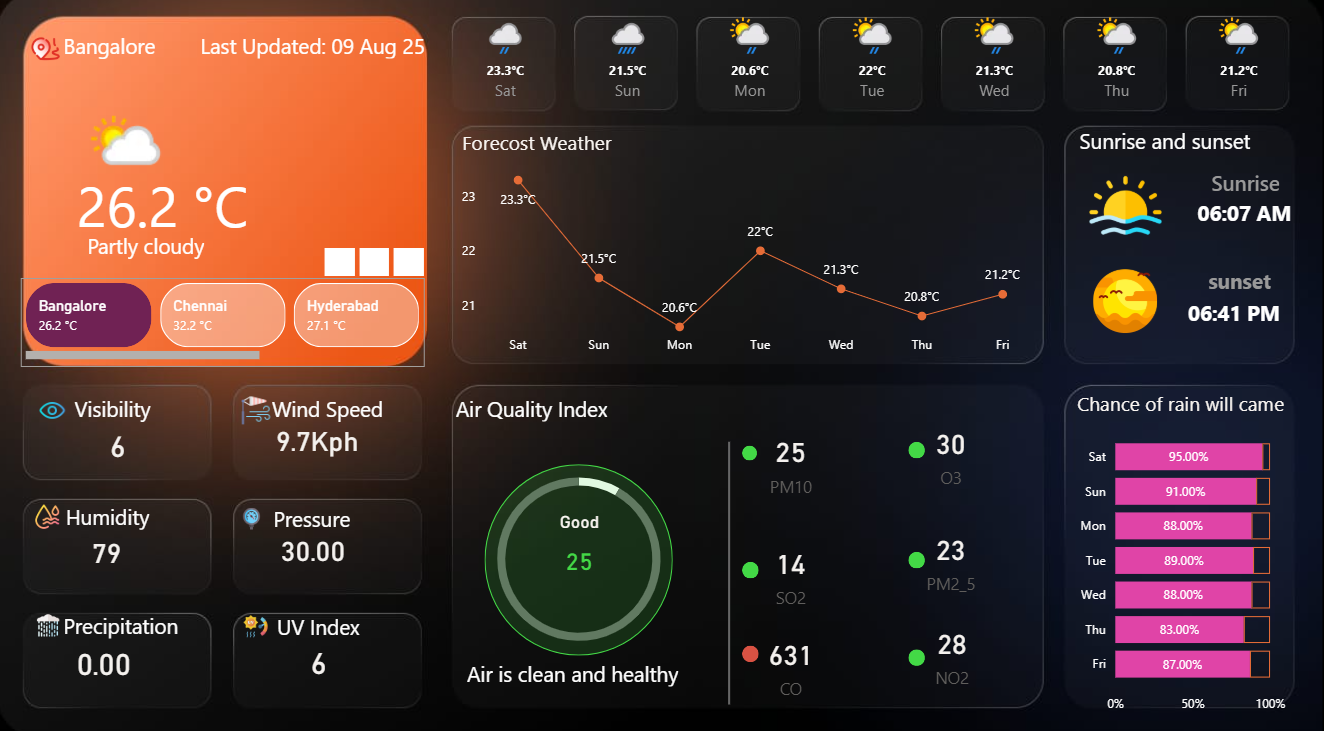

Layout of this report page (visuals, bound fields, positions):
{"tool":"powerbi","page":{"name":"Page 1","canvas":[1280,720],"ordinal":0},"visuals":[{"type":"donutChart","title":"   ","fields":{"Y":["Sum(current.current.air_quality.pm10)","Measure.Left_value_PM10"]},"box":[435.7,422.7,252.5,228],"z":0},{"type":"shape","box":[470.3,454.5,181.8,184.7],"z":1000},{"type":"advancedSlicerVisual","fields":{"Values":["locations.location.name"]},"box":[23.1,275.6,389.5,85.1],"z":2000},{"type":"shape","box":[54.3,167.7,211.1,72.4],"z":3000},{"type":"shape","box":[66.4,228,154.4,31.7],"z":4000},{"type":"shape","box":[160.1,10.1,252.5,80.8],"z":5000},{"type":"shape","box":[63.5,28.9,194.8,44.7],"z":6000},{"type":"image","box":[26,33.2,40.4,40.4],"z":7000},{"type":"cardVisual","fields":{"Data":["Min(current.current.condition.icon)"]},"box":[63.5,90.9,114,101],"z":8000},{"type":"image","box":[23.1,383.8,60.6,39],"z":9000},{"type":"shape","box":[75,360.7,252.5,80.8],"z":10000},{"type":"image","box":[217.9,383.8,62,39],"z":11000},{"type":"shape","box":[265.5,360.7,252.5,80.8],"z":12000},{"type":"image","box":[229.4,594.4,40.4,33.2],"z":13000},{"type":"image","box":[26,594.4,46.2,31.7],"z":14000},{"type":"image","box":[225.1,492,40.4,30.3],"z":15000},{"type":"image","box":[26,487.7,44.7,36.1],"z":16000},{"type":"shape","box":[63.5,569.9,252.5,80.8],"z":17000},{"type":"shape","box":[267,468.9,91.2,76.5],"z":18000},{"type":"shape","box":[66.4,464.6,252.5,80.8],"z":19000},{"type":"shape","box":[270.3,571.5,87.9,79.8],"z":20000},{"type":"card","fields":{"Values":["_Measures.wind_speed"]},"box":[210,354.9,198.6,154.7],"z":21000},{"type":"card","fields":{"Values":["Sum(current.current.pressure_in)"]},"box":[210,464,190.5,146.5],"z":22000},{"type":"card","fields":{"Values":["Sum(current.current.humidity)"]},"box":[3.3,464,204.8,150.3],"z":23000},{"type":"card","fields":{"Values":["Sum(current.current.vis_km)"]},"box":[13.2,361.6,206.4,148.6],"z":24000},{"type":"card","fields":{"Values":["Sum(current.current.precip_mm)"]},"box":[0,571.3,206.4,148.6],"z":25000},{"type":"card","fields":{"Values":["Sum(current.current.uv)"]},"box":[207.9,570.8,206.3,148.9],"z":26000},{"type":"advancedSlicerVisual","fields":{"Values":["forecost day.Day_name"]},"box":[431.2,10.9,829.9,111.7],"z":27000},{"type":"lineChart","title":"Forecost Weather","fields":{"Y":["Sum(forecost day.forecast.forecastday.day.avgtemp_c)"],"Category":["forecost day.Day_name"]},"box":[444.2,132.1,563.1,226.2],"z":28000},{"type":"shape","box":[1045.2,107.3,234.5,69.4],"z":29000},{"type":"shape","box":[1037,176.7,211.4,71],"z":30000},{"type":"shape","box":[1045.2,254.3,193.2,105.7],"z":31000},{"type":"shape","box":[1018.8,241.1,211.4,71],"z":32000},{"type":"shape","box":[1045.2,138.7,193.2,89.2],"z":33000},{"type":"image","box":[1045.2,165.1,89.2,79.3],"z":34000},{"type":"image","box":[1053.5,259.2,71,76],"z":35000},{"type":"hundredPercentStackedBarChart","title":"Chance of rain will came","fields":{"Category":["forecost day.Day_name"],"Y":["Sum(forecost day.forecast.forecastday.day.daily_chance_of_rain)","current.left_value_Rain"]},"box":[1037,383.1,211.4,320.3],"z":36000},{"type":"card","fields":{"Values":["Sum(current.current.air_quality.pm10)"]},"box":[706.6,415.2,118.9,76.5],"z":37000},{"type":"shape","box":[442.9,375.1,235.2,50.5],"z":38000},{"type":"card","fields":{"Values":["Sum(current.current.air_quality.o3)"]},"box":[861.3,407,118.9,76.5],"z":39000},{"type":"card","fields":{"Values":["Sum(current.current.air_quality.so2)"]},"box":[706.6,522.6,118.9,76.5],"z":40000},{"type":"card","fields":{"Values":["Sum(current.current.air_quality.pm2_5)"]},"box":[861.3,509.6,118.9,76.5],"z":41000},{"type":"card","fields":{"Values":["Sum(current.current.air_quality.no2)"]},"box":[862.9,599.1,118.9,76.5],"z":42000},{"type":"card","fields":{"Values":["Sum(current.current.air_quality.co)"]},"box":[706.6,610.5,118.9,76.5],"z":43000},{"type":"shape","box":[719.6,436.3,14.7,14.7],"z":44000},{"type":"shape","box":[719.6,548.7,16.3,16.3],"z":45000},{"type":"shape","box":[719.6,630.1,16.3,16.3],"z":46000},{"type":"shape","box":[879.2,538.9,16.3,16.3],"z":47000},{"type":"shape","box":[879.2,433.1,16.3,16.3],"z":48000},{"type":"shape","box":[879.2,633.3,16.3,16.3],"z":49000},{"type":"shape","box":[672.3,432.8,69.3,253.9],"z":50000},{"type":"card","fields":{"Values":["Sum(current.current.air_quality.pm10)"]},"box":[503.5,500.6,118.3,76.5],"z":51000},{"type":"shape","box":[453,630.5,235.2,50.5],"z":52000}]}

Visuals, with their boxes in screenshot pixels (x1, y1, x2, y2), scaled from the page's 1280x720 canvas onto the 1324x731 screenshot:
"   " donutChart: region(451, 429, 712, 661)
shape: region(486, 461, 675, 649)
advancedSlicerVisual - locations.location.name: region(24, 280, 427, 366)
shape: region(56, 170, 275, 244)
shape: region(69, 231, 228, 264)
shape: region(166, 10, 427, 92)
shape: region(66, 29, 267, 75)
image: region(27, 34, 69, 75)
cardVisual - Min(current.current.condition.icon): region(66, 92, 184, 195)
image: region(24, 390, 87, 429)
shape: region(78, 366, 339, 448)
image: region(225, 390, 290, 429)
shape: region(275, 366, 536, 448)
image: region(237, 603, 279, 637)
image: region(27, 603, 75, 636)
image: region(233, 500, 275, 530)
image: region(27, 495, 73, 532)
shape: region(66, 579, 327, 661)
shape: region(276, 476, 371, 554)
shape: region(69, 472, 330, 554)
shape: region(280, 580, 371, 661)
card - _Measures.wind_speed: region(217, 360, 423, 517)
card - Sum(current.current.pressure_in): region(217, 471, 414, 620)
card - Sum(current.current.humidity): region(3, 471, 215, 624)
card - Sum(current.current.vis_km): region(14, 367, 227, 518)
card - Sum(current.current.precip_mm): region(0, 580, 213, 730)
card - Sum(current.current.uv): region(215, 580, 428, 730)
advancedSlicerVisual - forecost day.Day_name: region(446, 11, 1304, 124)
"Forecost Weather" lineChart: region(459, 134, 1042, 364)
shape: region(1081, 109, 1323, 179)
shape: region(1073, 179, 1291, 251)
shape: region(1081, 258, 1281, 366)
shape: region(1054, 245, 1272, 317)
shape: region(1081, 141, 1281, 231)
image: region(1081, 168, 1173, 248)
image: region(1090, 263, 1163, 340)
"Chance of rain will came" hundredPercentStackedBarChart: region(1073, 389, 1291, 714)
card - Sum(current.current.air_quality.pm10): region(731, 422, 854, 499)
shape: region(458, 381, 701, 432)
card - Sum(current.current.air_quality.o3): region(891, 413, 1014, 491)
card - Sum(current.current.air_quality.so2): region(731, 531, 854, 608)
card - Sum(current.current.air_quality.pm2_5): region(891, 517, 1014, 595)
card - Sum(current.current.air_quality.no2): region(893, 608, 1016, 686)
card - Sum(current.current.air_quality.co): region(731, 620, 854, 697)
shape: region(744, 443, 760, 458)
shape: region(744, 557, 761, 574)
shape: region(744, 640, 761, 656)
shape: region(909, 547, 926, 564)
shape: region(909, 440, 926, 456)
shape: region(909, 643, 926, 660)
shape: region(695, 439, 767, 697)
card - Sum(current.current.air_quality.pm10): region(521, 508, 643, 586)
shape: region(469, 640, 712, 691)
